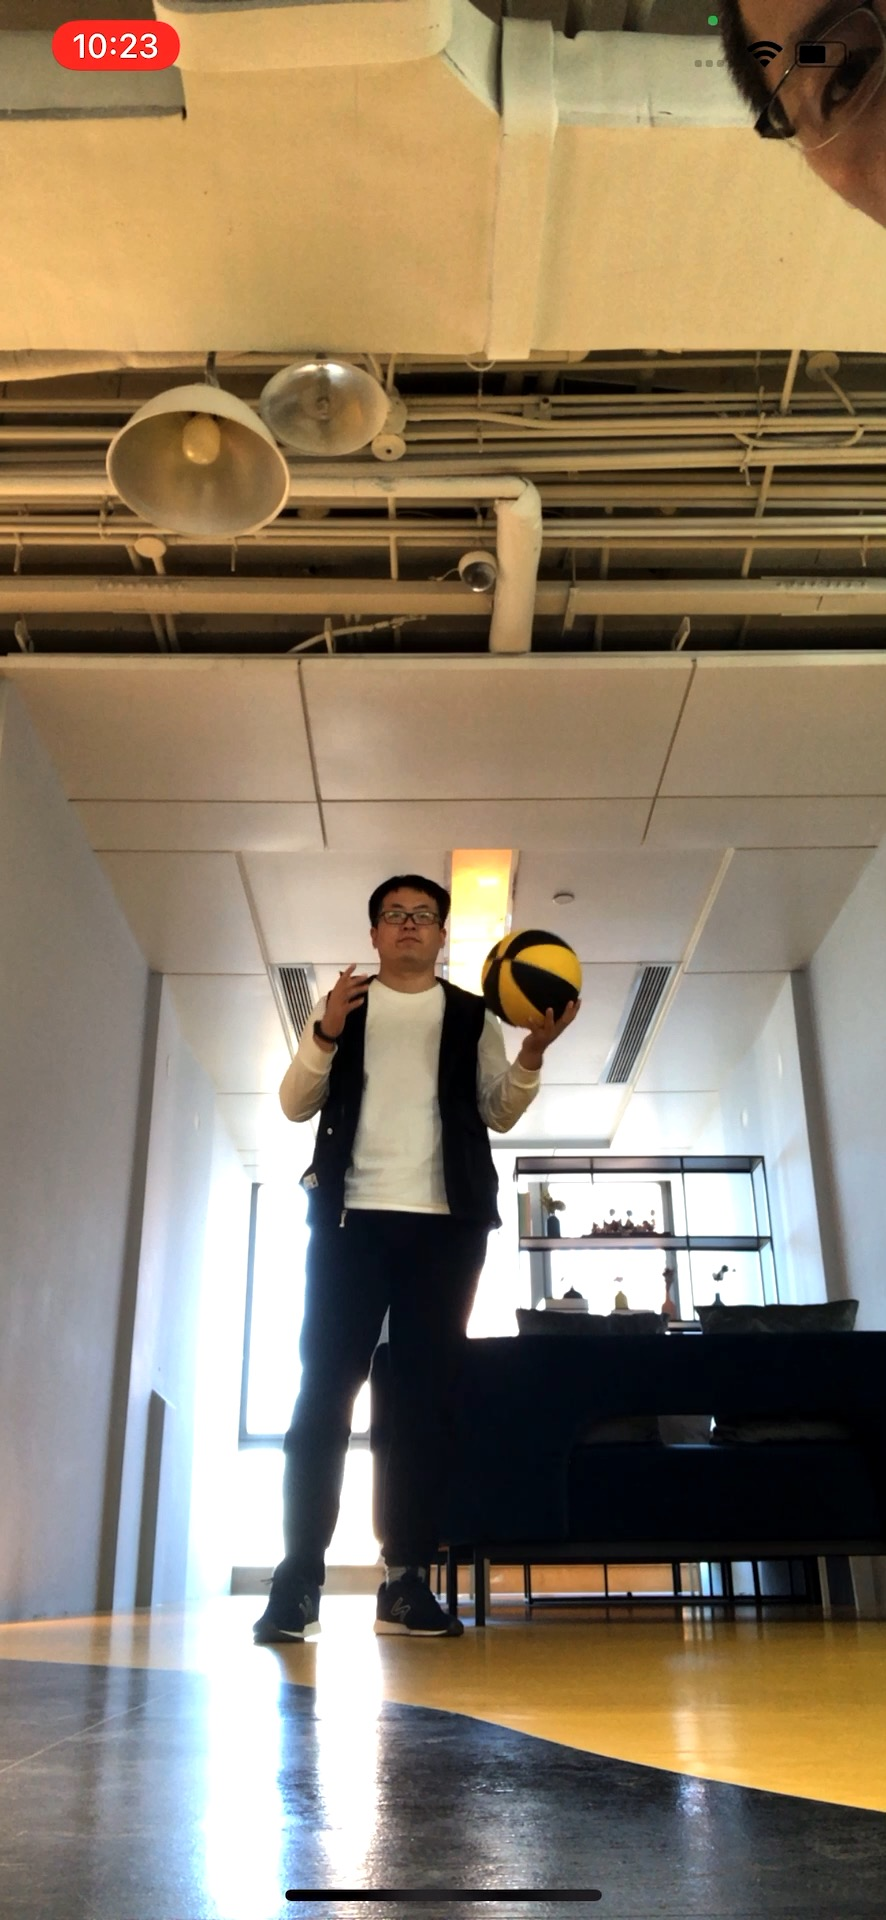ball: (482, 929, 583, 1027)
